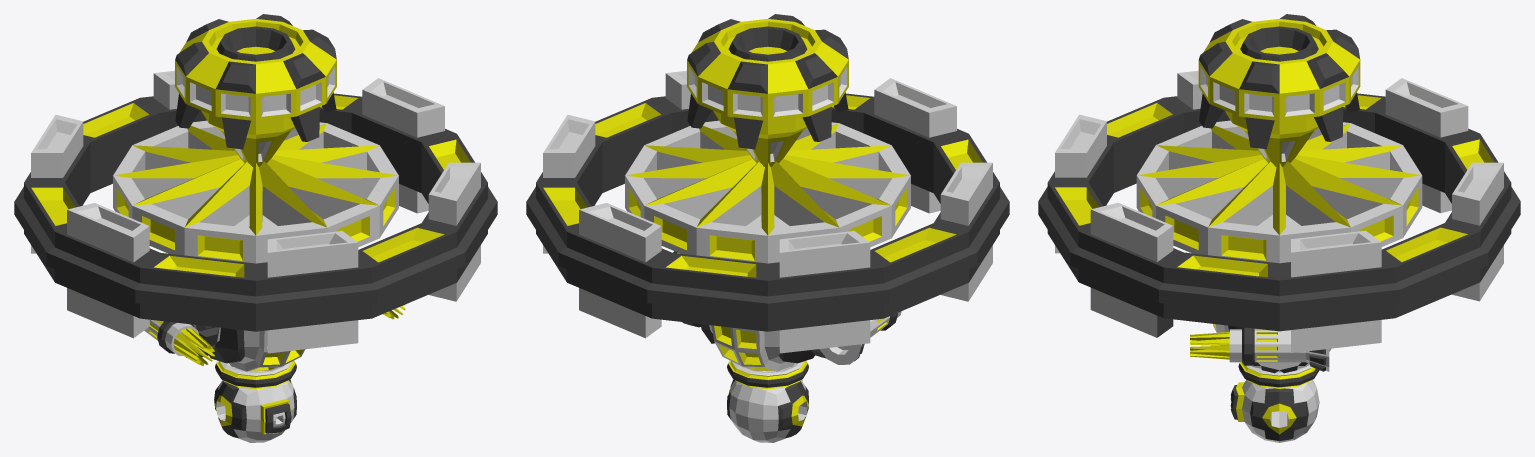
Rendered from mid_tower2_3.fbx.
3 renders of one model, left to right at view 1: azimuth 30°, elevation 25°; view 2: azimuth 150°, elevation 25°; view 3: azimuth 270°, elevation 25°, orthographic.
Visible parts, largest first — view 1: polySurface74; view 2: polySurface74; view 3: polySurface74.
Boxes of the visible parts, x1,y1,x2,y2 form: polySurface74: (14,14,497,442); polySurface74: (526,14,1009,442); polySurface74: (1038,14,1520,442).
Size of the model in its own units: 0.9863 by 0.8989 by 0.9863.
